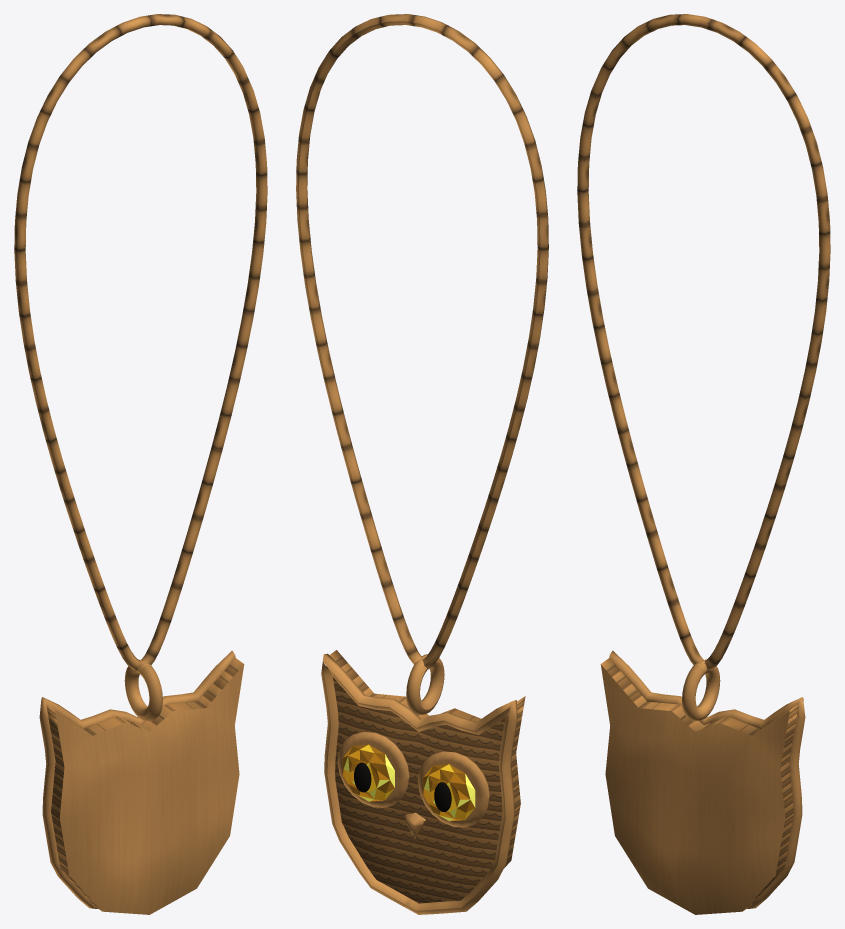
Rendered from OwlEyeAmulet.glb.
3 renders of one model, left to right at view 1: azimuth 30°, elevation 25°; view 2: azimuth 150°, elevation 25°; view 3: azimuth 330°, elevation 25°, orthographic.
Parts seen in each view (by area): view 1: OwlEyeAmulet; view 2: OwlEyeAmulet; view 3: OwlEyeAmulet.
Boxes of the visible parts, x1,y1,x2,y2 form: OwlEyeAmulet: (14, 14, 267, 914); OwlEyeAmulet: (296, 14, 548, 914); OwlEyeAmulet: (577, 14, 830, 914).
Bounding box in the file's own units: 0.5321 × 1.81 × 0.152.
Materials: 1 (1 with a texture image).
